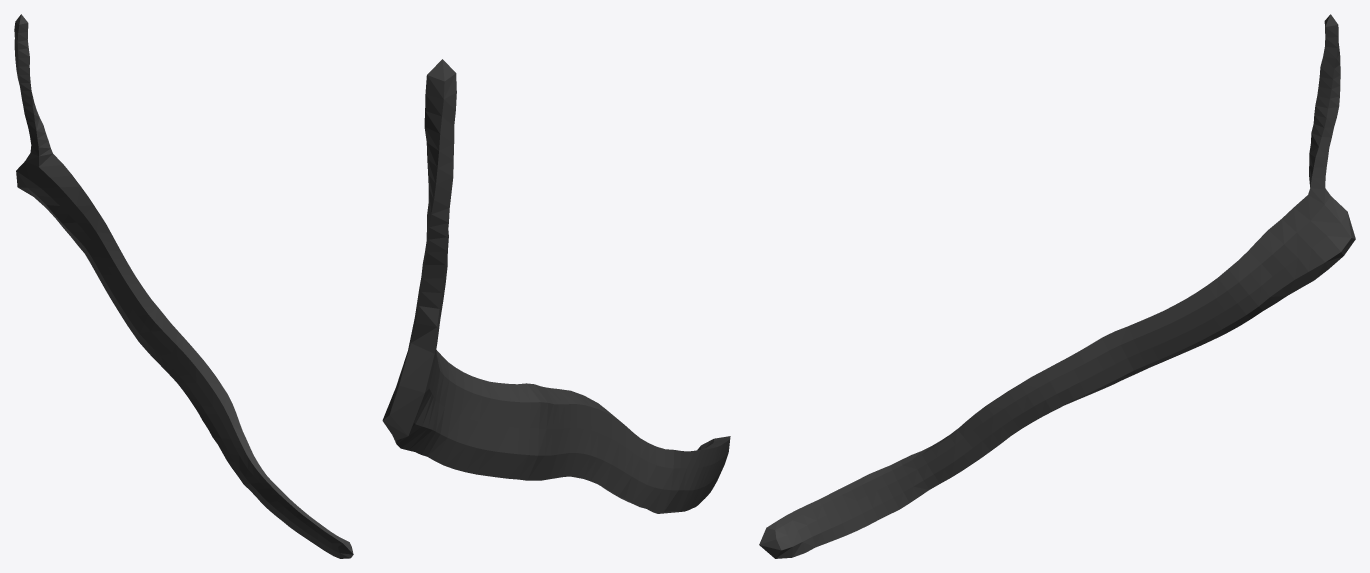
Rendered from R_stylohyoid.glb.
3 views of the same model, side by side, from view 1: azimuth 30°, elevation 25°; view 2: azimuth 150°, elevation 25°; view 3: azimuth 270°, elevation 25° (orthographic). The views are drawn at different scales.
Visible parts, largest first — view 1: R_stylohyoid; view 2: R_stylohyoid; view 3: R_stylohyoid.
Part boxes in pixels (x1,y1,x2,y2): R_stylohyoid: (14, 14, 353, 558); R_stylohyoid: (382, 59, 730, 513); R_stylohyoid: (759, 14, 1355, 558).
Size of the model in its own units: 0.4319 by 1.52 by 1.69.
Materials: 1 (1 with a texture image).
